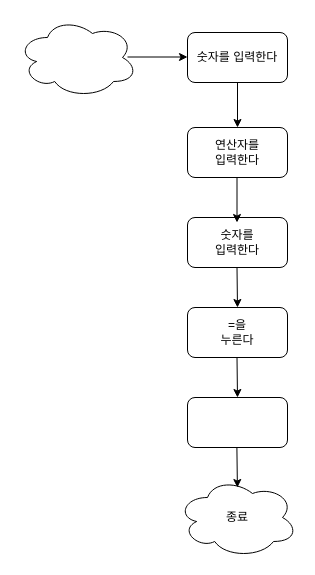
This 315x575 diagram has some shape labels left out. Each missing label, with the box of its shape:
결과를 확인한다.: (186, 396, 288, 448)
시작: (16, 16, 138, 98)
